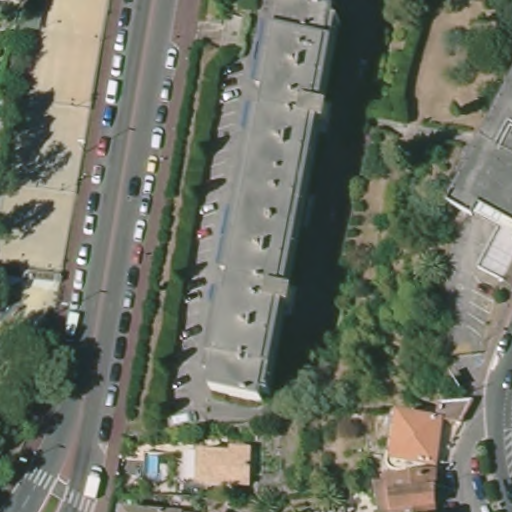pool: (143, 452, 161, 483)
